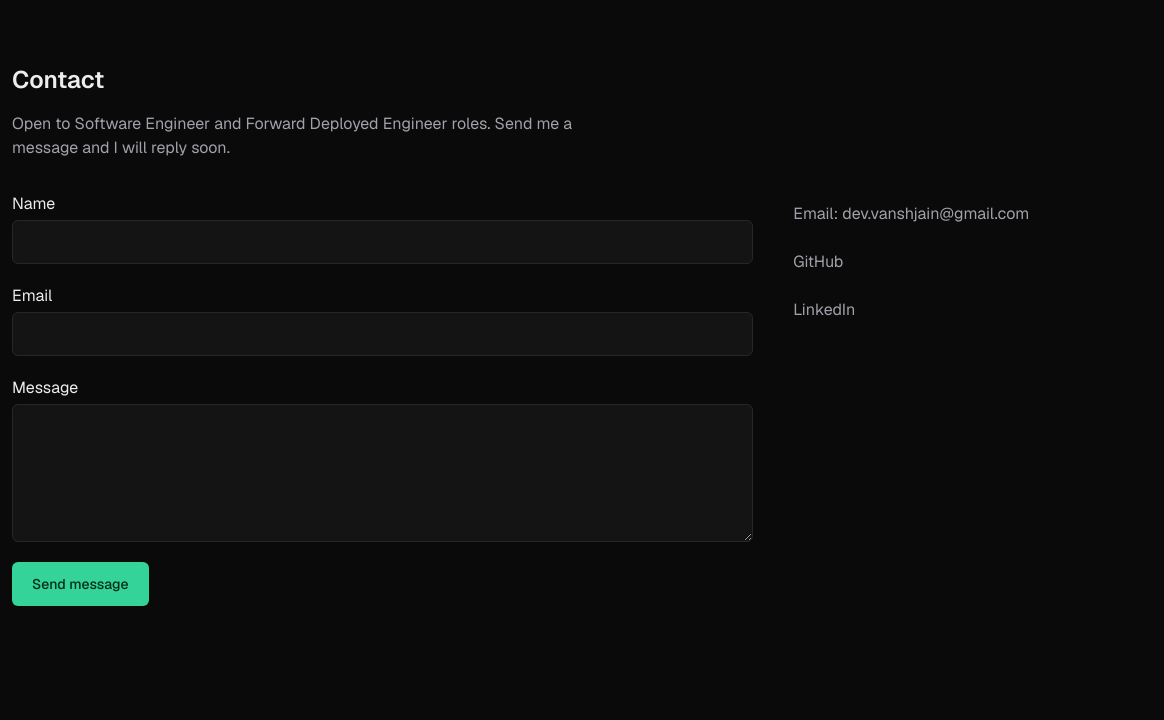
empty form shows three errors and sends nothing
Click the button "Send message" at coordinates (80, 584), box left=12, top=562, right=148, bottom=606
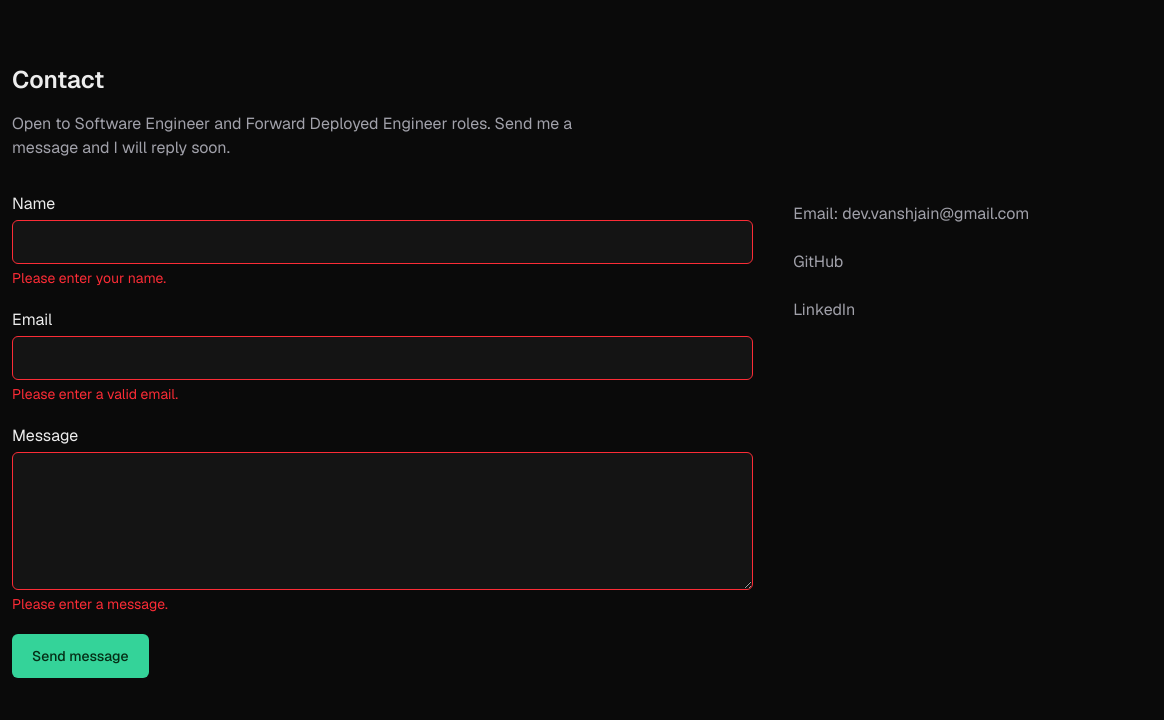
Now the text "Please enter your name." is shown, box left=12, top=269, right=166, bottom=287
Now the text "Please enter a valid email." is shown, box left=12, top=385, right=178, bottom=403
Now the text "Please enter a message." is shown, box left=12, top=595, right=168, bottom=613
